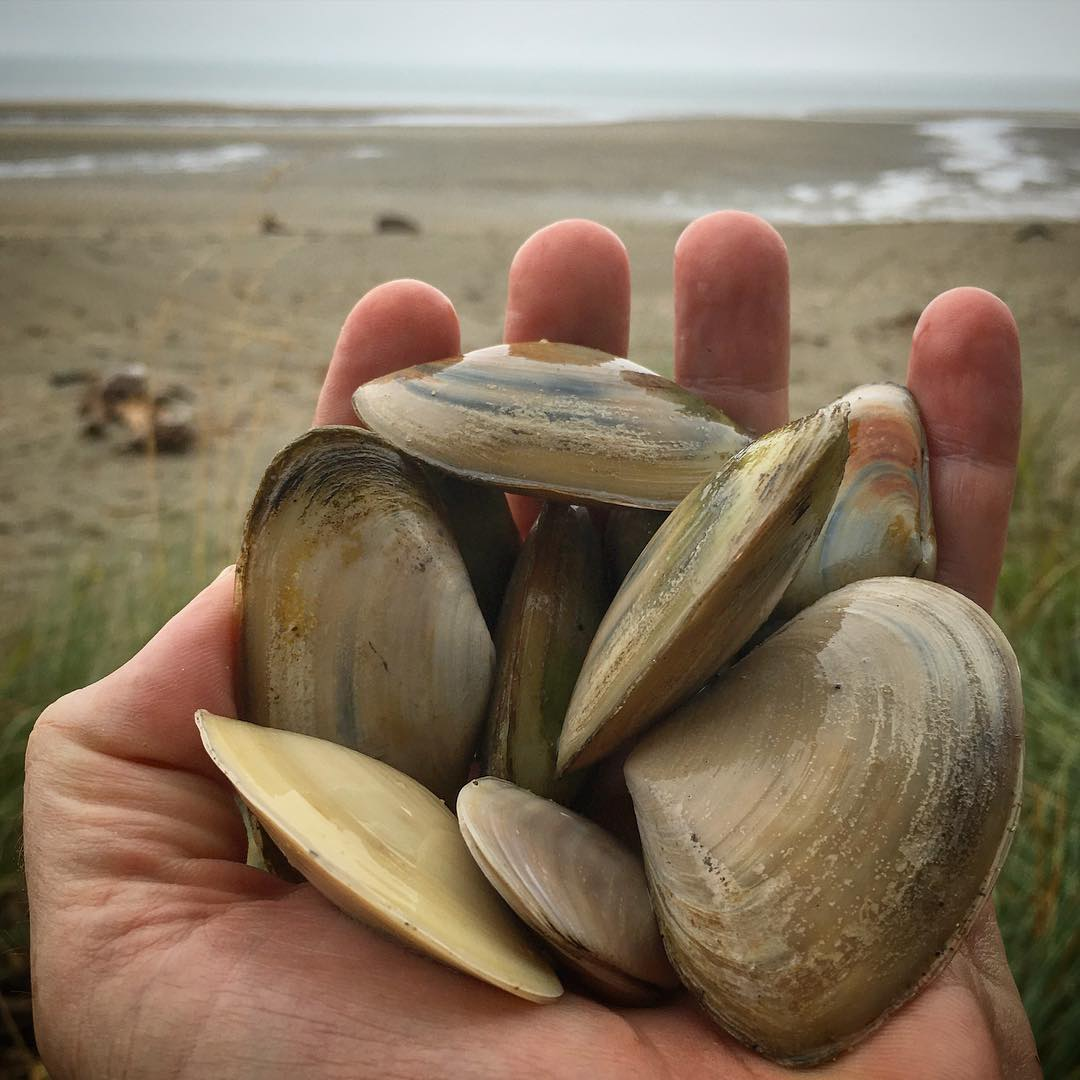tuatua: (621, 574, 1028, 1065), (183, 702, 570, 1009), (556, 401, 862, 771), (240, 418, 488, 782), (355, 333, 739, 512), (456, 763, 683, 1005), (812, 368, 943, 592), (494, 494, 581, 795)
